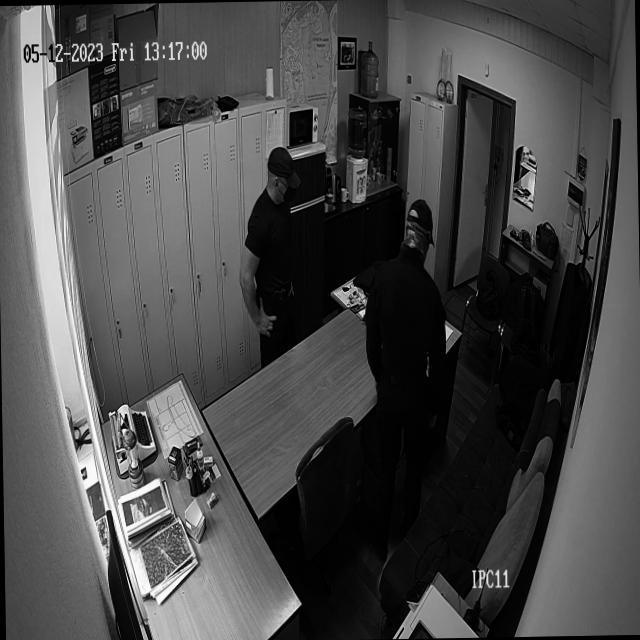gun: (270, 284, 288, 322)
person: (362, 193, 444, 478)
person with a gun: (235, 138, 302, 341)
